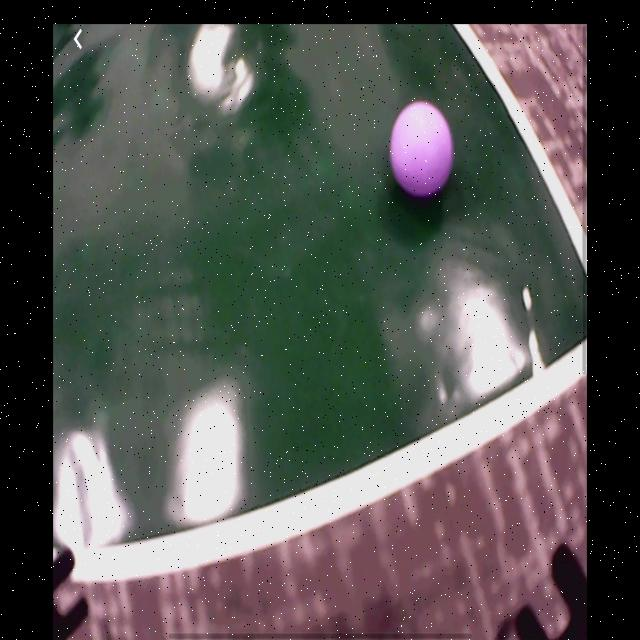ball: (390, 102, 454, 198)
